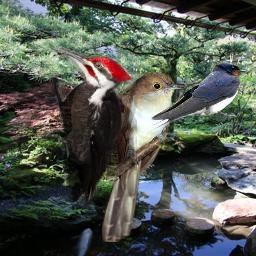Cuckoo: (102, 71, 185, 242)
Swallow: (139, 62, 247, 137)
Woodpecker: (44, 48, 137, 202)
